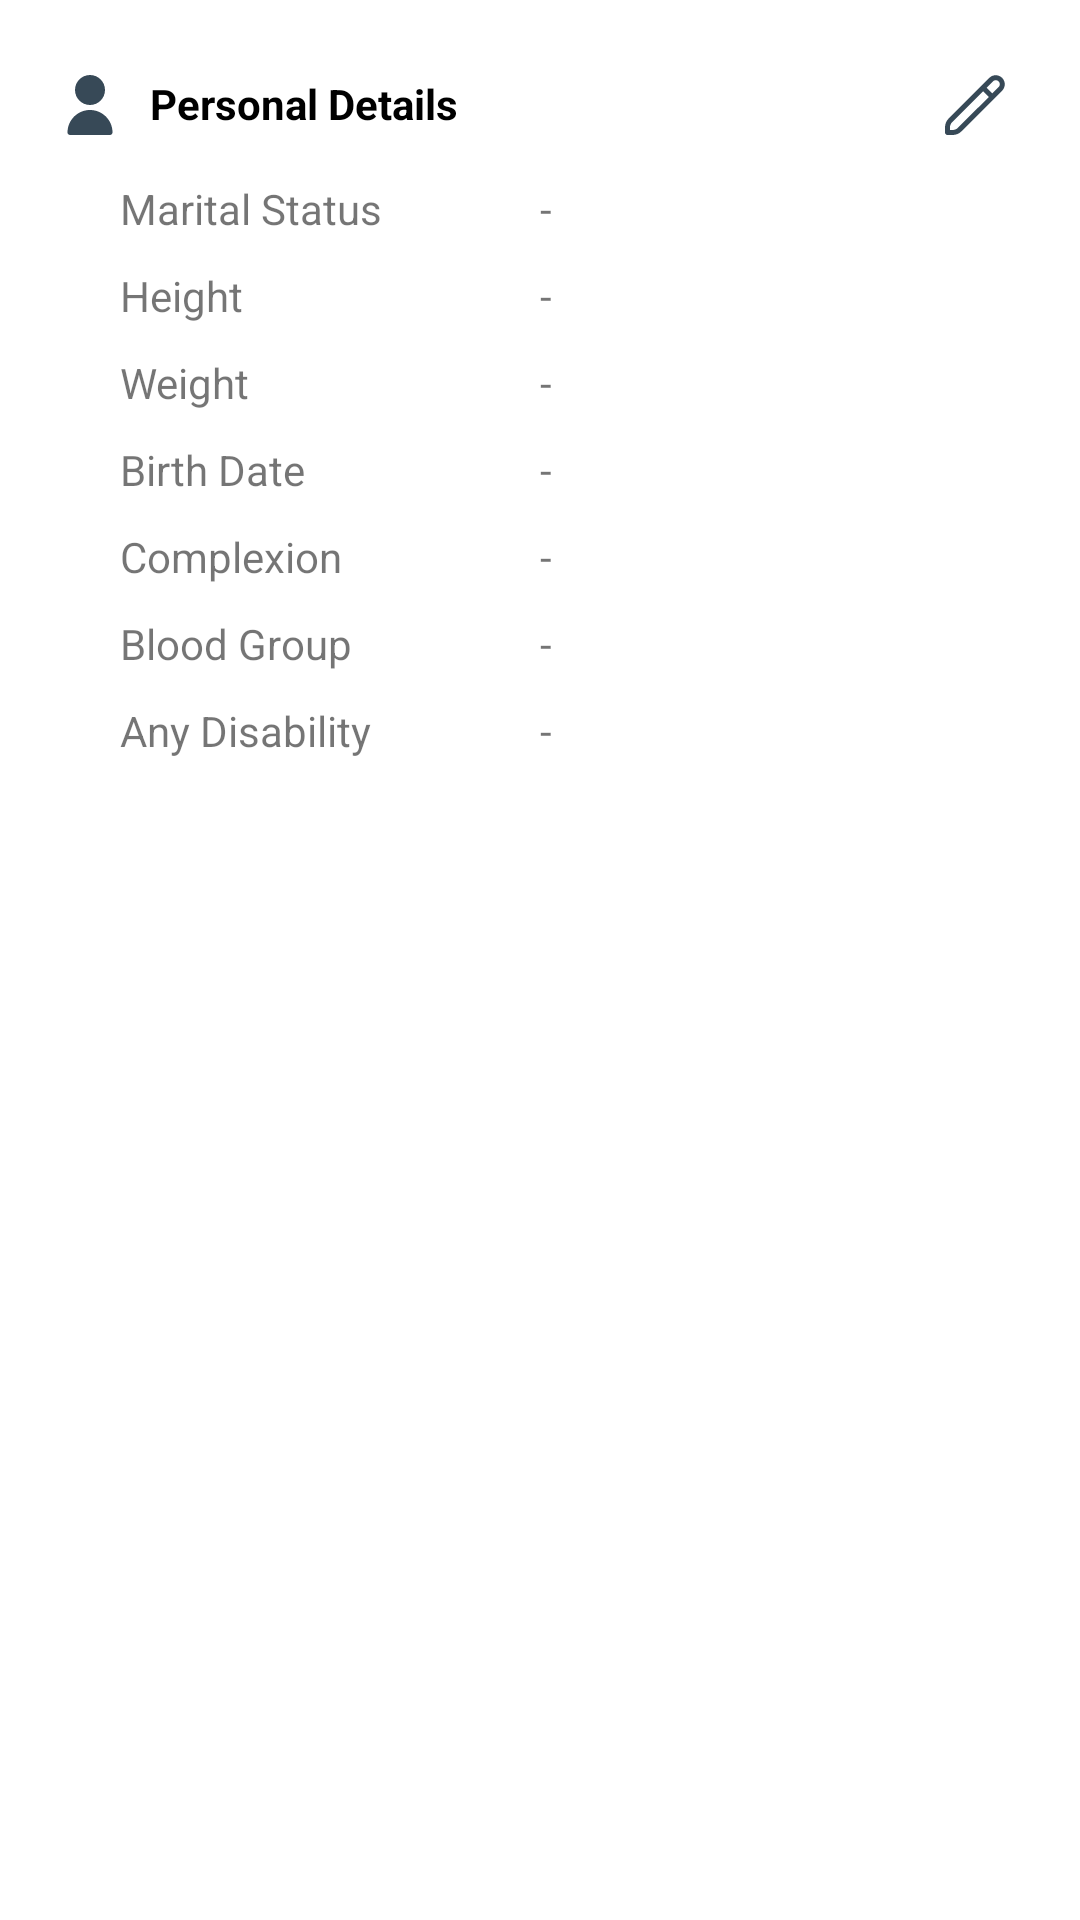

Point at icon controls on the screen. Image size 1080x1920, points as (x,y).
pencil: (975,105)
